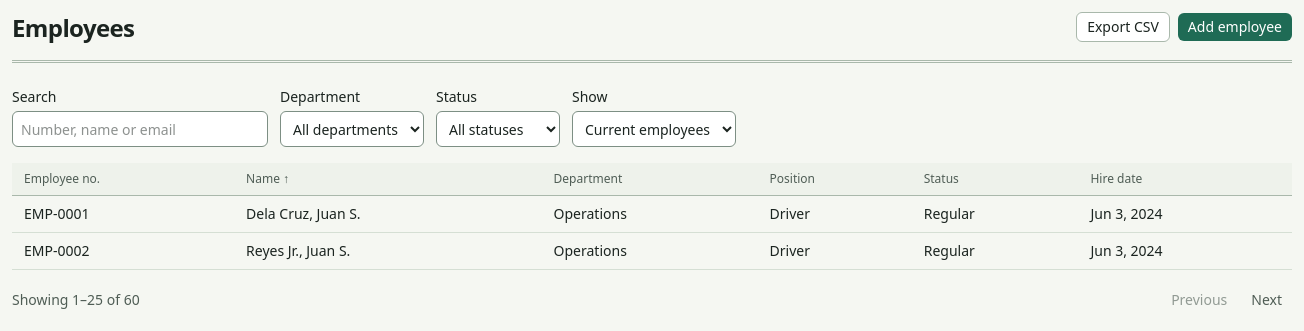
Scenario: EmployeesPage › pages through the results
Expected: the text "Showing 1–25 of 60" is shown, [12,290,140,310]
Expected: the button with aria-label "Previous page" is disabled, [1161,286,1237,314]
Click the button with aria-label "Next page" at (1267, 300), box [1241,286,1292,314]
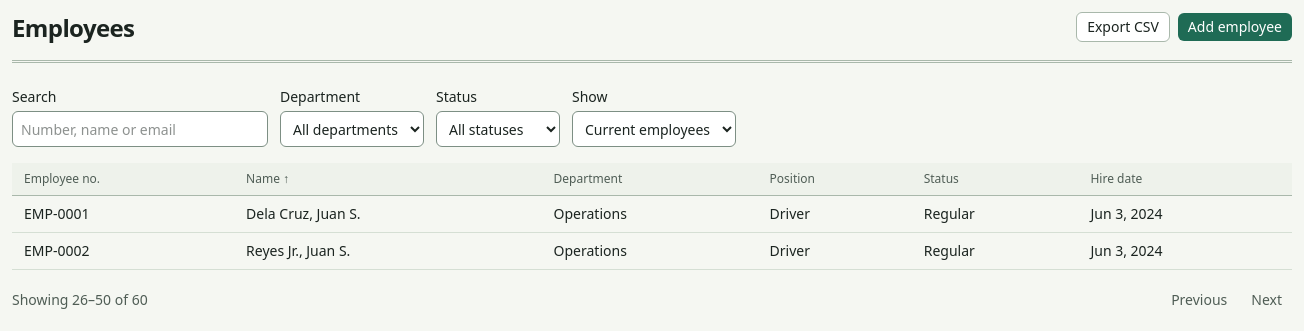
Now the text "Showing 26–50 of 60" is shown, box [12,290,148,310]
